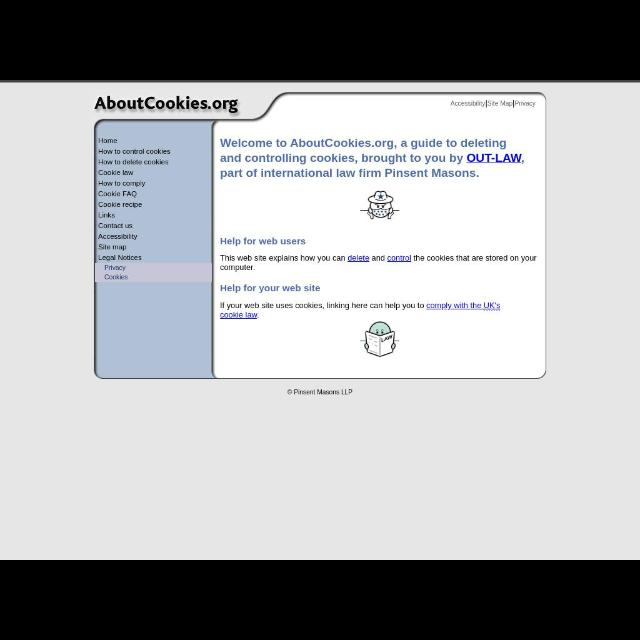image: (95, 96, 238, 114), (360, 322, 400, 356), (360, 191, 400, 219)
link: (426, 302, 500, 310), (466, 154, 522, 164), (220, 312, 258, 320), (348, 255, 370, 263), (387, 255, 411, 262)
text: (221, 138, 524, 178), (220, 255, 538, 272), (220, 302, 502, 320), (221, 284, 321, 294), (220, 238, 306, 246), (450, 100, 536, 108), (98, 149, 172, 155), (99, 159, 169, 165), (288, 389, 352, 395), (98, 180, 146, 188), (98, 254, 142, 262), (99, 190, 138, 198), (98, 233, 138, 240), (98, 202, 142, 208), (98, 244, 126, 252), (98, 170, 134, 176), (99, 223, 133, 229), (104, 264, 126, 272), (104, 274, 128, 280), (99, 138, 117, 144), (98, 212, 115, 218)
